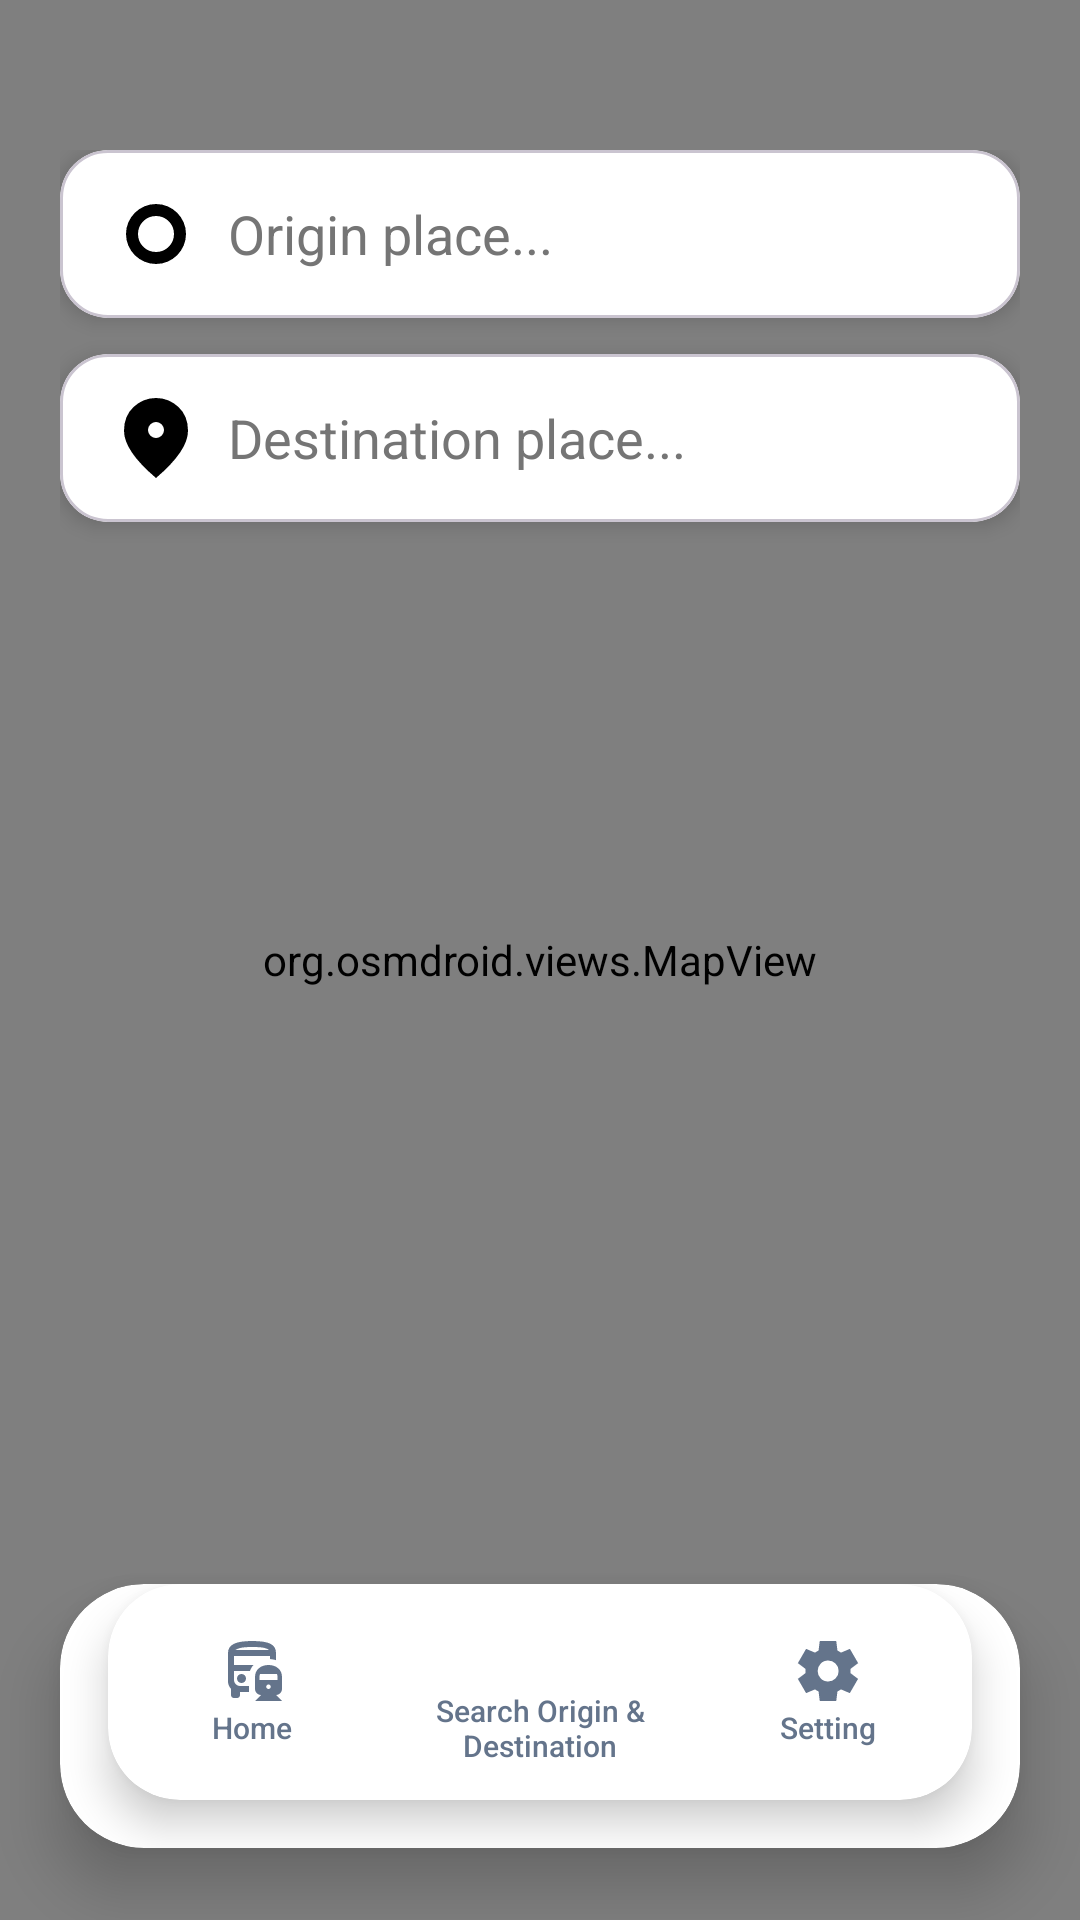

Icon bounding boxes for this 1080x1920 phone screenshot, format rect(x1, y1, x2, y2):
bus railway: rect(228, 1641, 282, 1701)
